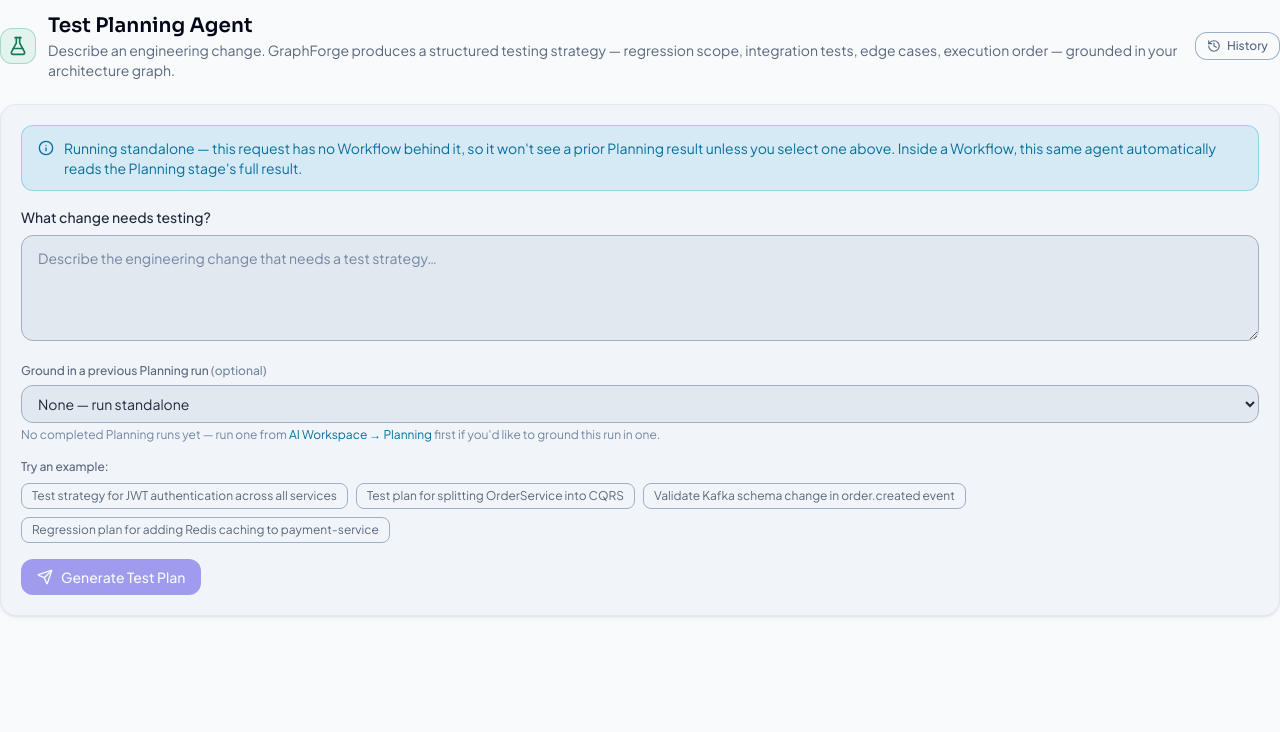
Test case: TestingPage › enables submit button when input has text
The width and height of the screenshot is (1280, 732).
In the text box labelled "What change needs testing?": (640, 288) left=21, top=235, right=1259, bottom=341, type "Test JWT auth"
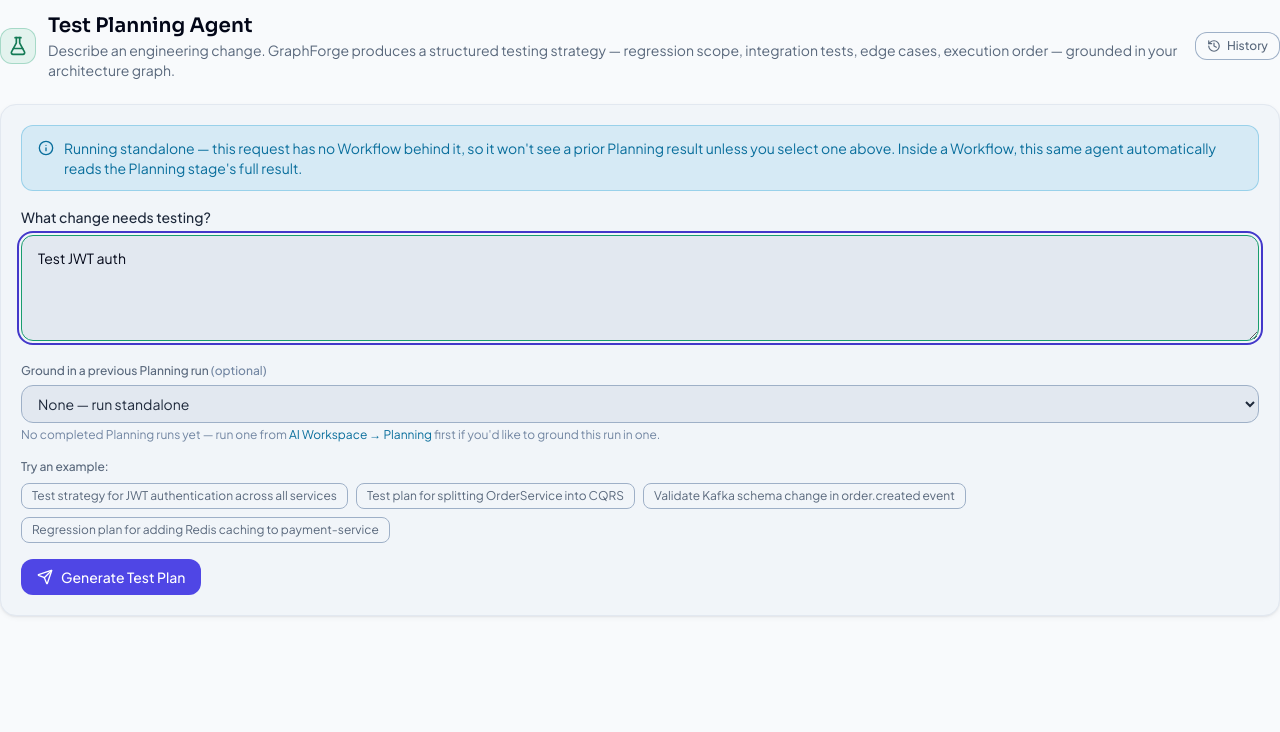
Expected: the button with aria-label "Submit testing request" is enabled, left=21, top=559, right=202, bottom=595
